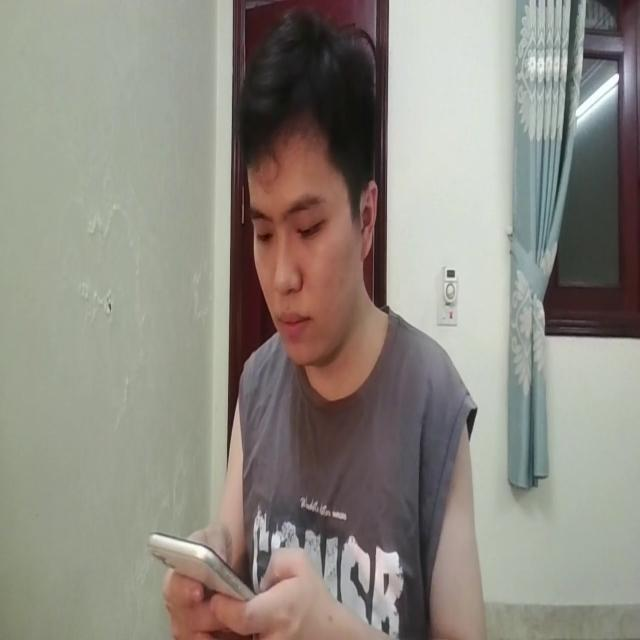phone: (148, 522, 264, 614)
student: (150, 8, 488, 640)
